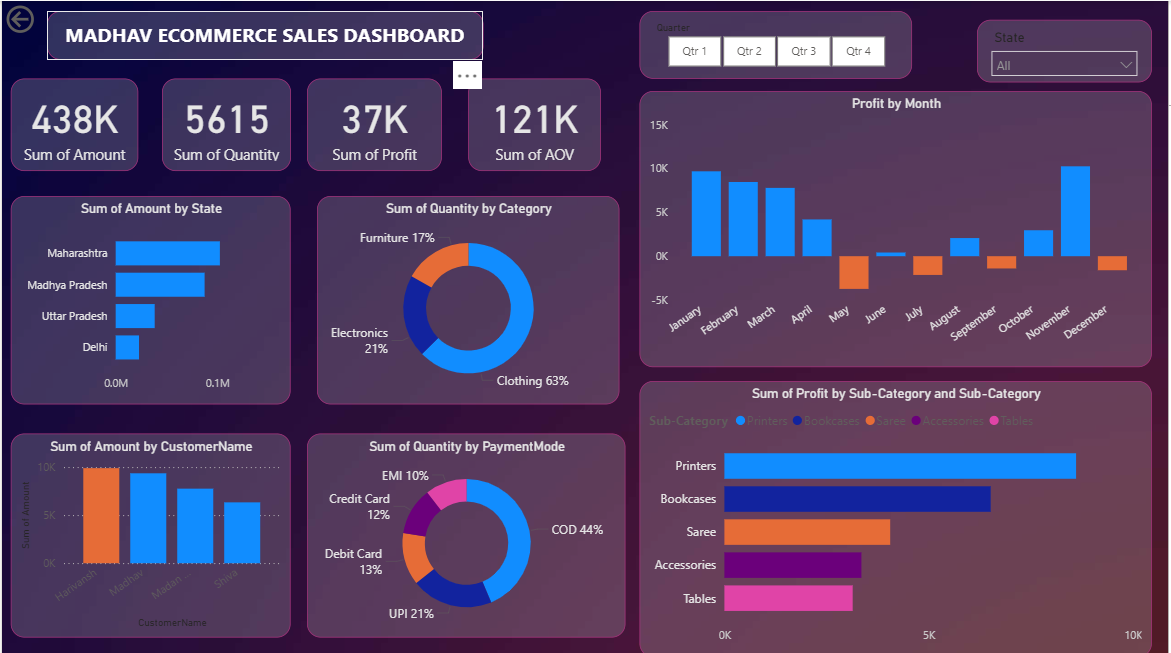

The page's visual inventory and layout, read from the dashboard file:
{"tool":"powerbi","page":{"name":"Page 1","canvas":[1280,720],"ordinal":0},"visuals":[{"type":"columnChart","title":" Profit by Month","fields":{"Category":["Orders.Order Date.Variation.Date Hierarchy.Month"],"Y":["Details.Profit"]},"box":[699.8,98.8,562.6,303.3],"z":1000},{"type":"barChart","fields":{"Category":["Details.Sub-Category"],"Series":["Details.Sub-Category"],"Y":["Details.Profit"]},"box":[699.8,417.2,562.6,303.3],"z":2000},{"type":"donutChart","fields":{"Category":["Details.Category"],"Y":["Details.Quantity"]},"box":[345.8,214.1,332.1,229.2],"z":3000},{"type":"donutChart","fields":{"Y":["Details.Quantity"],"Category":["Details.PaymentMode"]},"box":[334.8,474.8,349.9,223.7],"z":4000},{"type":"actionButton","box":[0,0,100,40],"z":5000},{"type":"card","fields":{"Values":["Details.Amount"]},"box":[9.6,85.1,140,101.5],"z":6000},{"type":"card","fields":{"Values":["Details.Quantity"]},"box":[175.6,85.1,141.3,101.5],"z":7000},{"type":"card","fields":{"Values":["Details.Profit"]},"box":[334.8,85.1,148.2,101.5],"z":8000},{"type":"card","fields":{"Values":["Details.AOV"]},"box":[511.8,85.1,145.5,101.5],"z":9000},{"type":"barChart","fields":{"Category":["Orders.State"],"Y":["Details.Amount"]},"box":[9.6,214.1,307.4,229.2],"z":10000},{"type":"columnChart","fields":{"Category":["Orders.CustomerName"],"Y":["Details.Amount"]},"box":[10,475,307,224],"z":10001},{"type":"slicer","fields":{"Values":["Orders.Order Date.Variation.Date Hierarchy.Quarter"]},"box":[699.8,11,299.1,74.1],"z":10002},{"type":"slicer","fields":{"Values":["Orders.State"]},"box":[1070.3,20.6,192.1,68.6],"z":10003},{"type":"textbox","box":[49.4,11,478.9,53.5],"z":10004}]}

Visuals, with their boxes in screenshot pixels (x1, y1, x2, y2), scaled from the page's 1280x720 canvas onto the 1171x653 screenshot:
" Profit by Month" columnChart: bbox(640, 90, 1155, 365)
barChart - Details.Sub-Category x Details.Sub-Category: bbox(640, 378, 1155, 652)
donutChart - Details.Category x Details.Quantity: bbox(316, 194, 620, 402)
donutChart - Details.Quantity x Details.PaymentMode: bbox(306, 431, 626, 634)
actionButton: bbox(0, 0, 91, 36)
card - Details.Amount: bbox(9, 77, 137, 169)
card - Details.Quantity: bbox(161, 77, 290, 169)
card - Details.Profit: bbox(306, 77, 442, 169)
card - Details.AOV: bbox(468, 77, 601, 169)
barChart - Orders.State x Details.Amount: bbox(9, 194, 290, 402)
columnChart - Orders.CustomerName x Details.Amount: bbox(9, 431, 290, 634)
slicer - Orders.Order Date.Variation.Date Hierarchy.Quarter: bbox(640, 10, 914, 77)
slicer - Orders.State: bbox(979, 19, 1155, 81)
textbox: bbox(45, 10, 483, 58)
